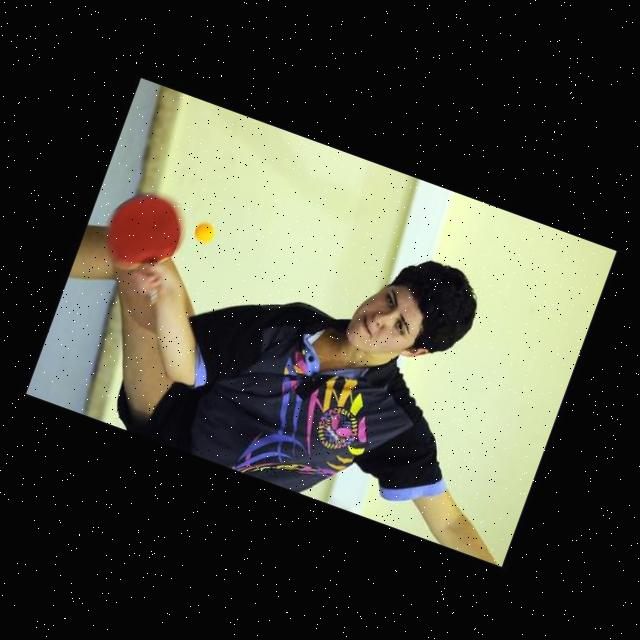ping-pong-ball: (190, 219, 218, 247)
